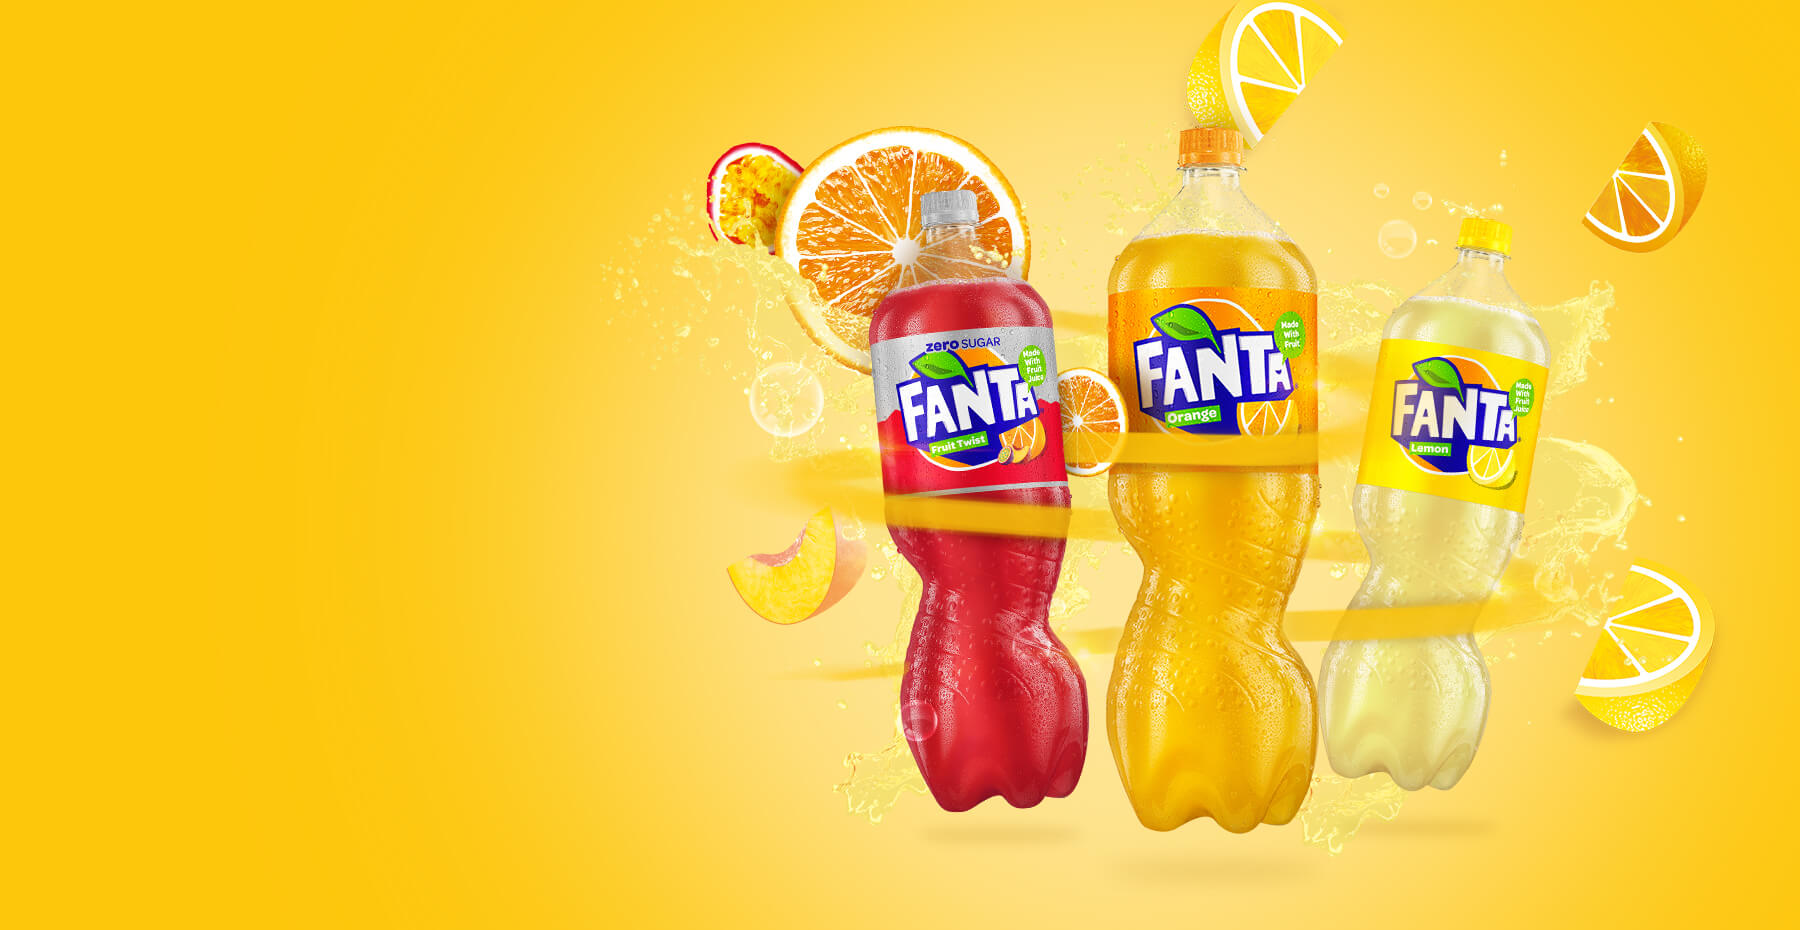Fanta: (869, 196, 1106, 828), (1116, 133, 1325, 840), (1357, 203, 1547, 805)
